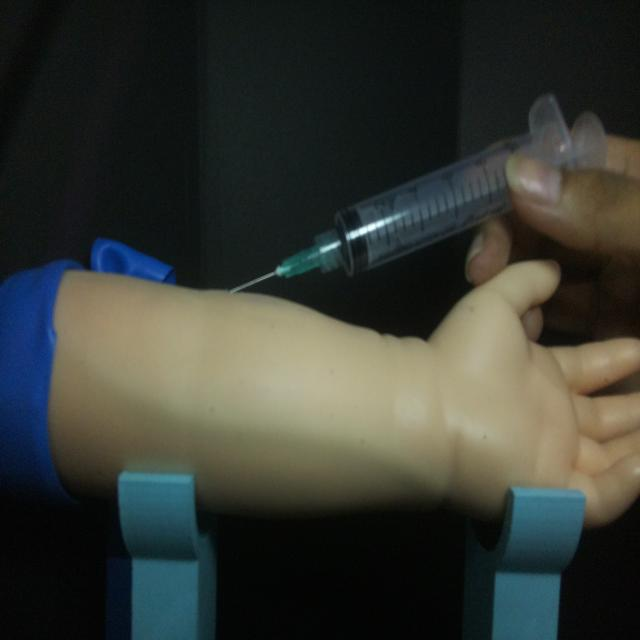21deg: (229, 93, 604, 293)
